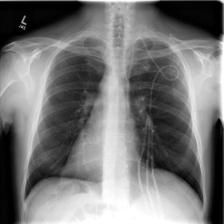normal: (21, 32, 209, 214)
